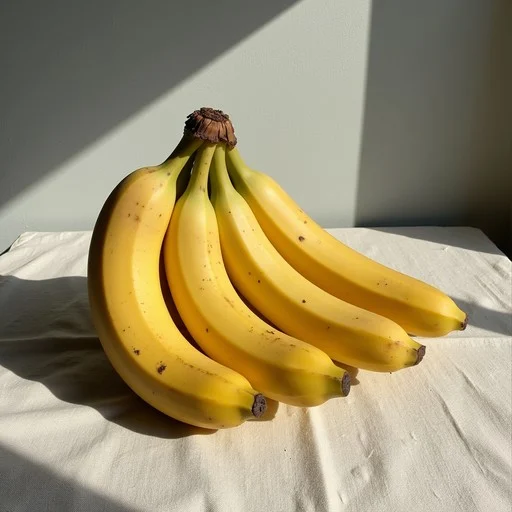banana: (88, 104, 476, 432)
